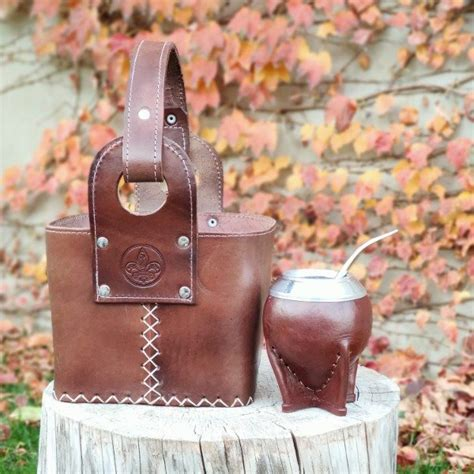cuero: (41, 39, 373, 417)
